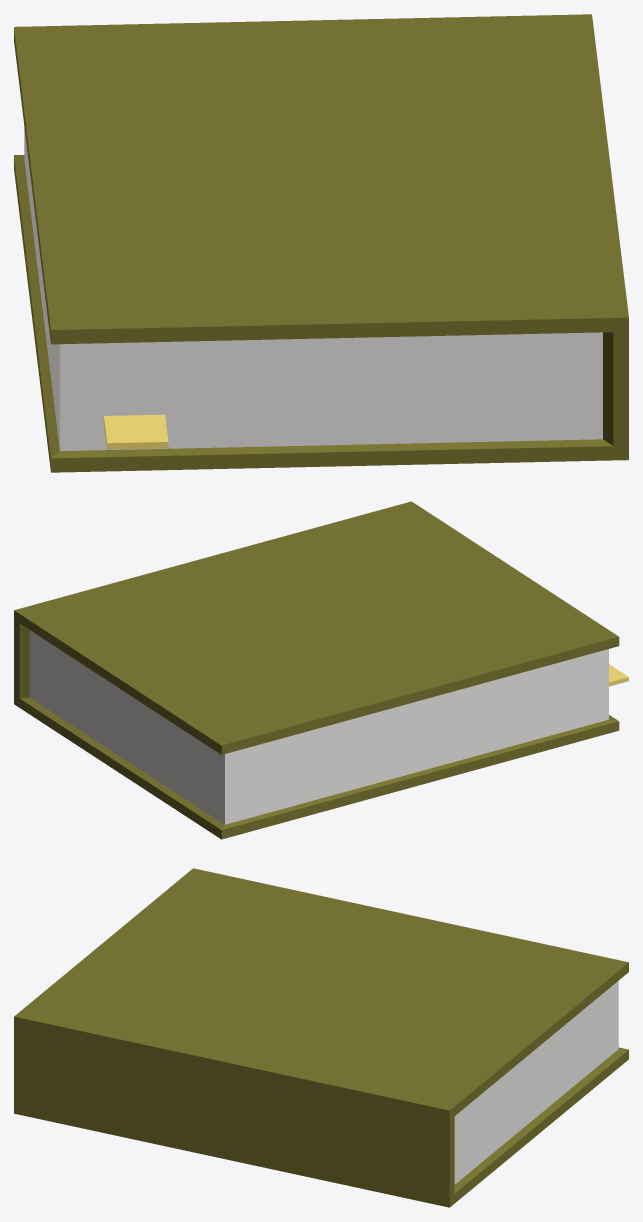
File: Book_5.fbx
The picture shows the model from 3 angles, top to bottom: view 1: azimuth 30°, elevation 25°; view 2: azimuth 150°, elevation 25°; view 3: azimuth 270°, elevation 25°; orthographic projection. The views are drawn at different scales.
Parts seen in each view (by area): view 1: Book_5; view 2: Book_5; view 3: Book_5.
Part boxes in pixels (x1,y1,x2,y2): Book_5: [14, 14, 628, 472]; Book_5: [14, 501, 628, 839]; Book_5: [14, 868, 628, 1207].
Size of the model in its own units: 28.19 by 30.23 by 5.26.
